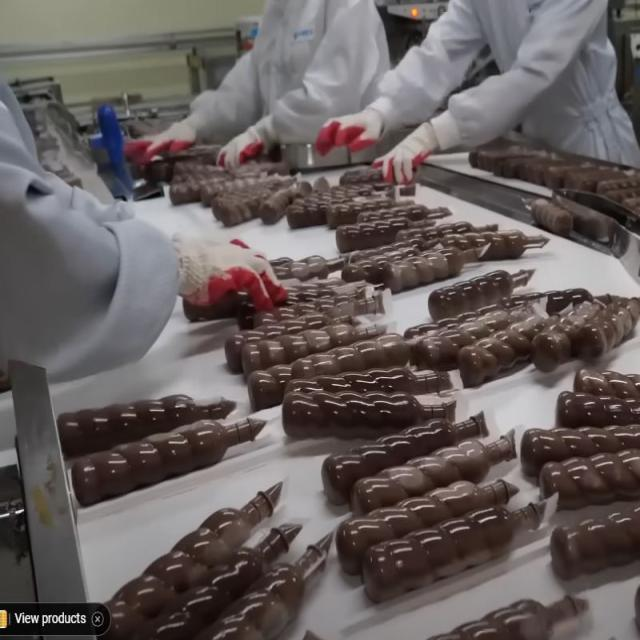gloved_hand: (166, 226, 286, 329), (376, 116, 442, 197), (307, 103, 381, 162), (125, 118, 201, 164), (215, 125, 263, 173)
